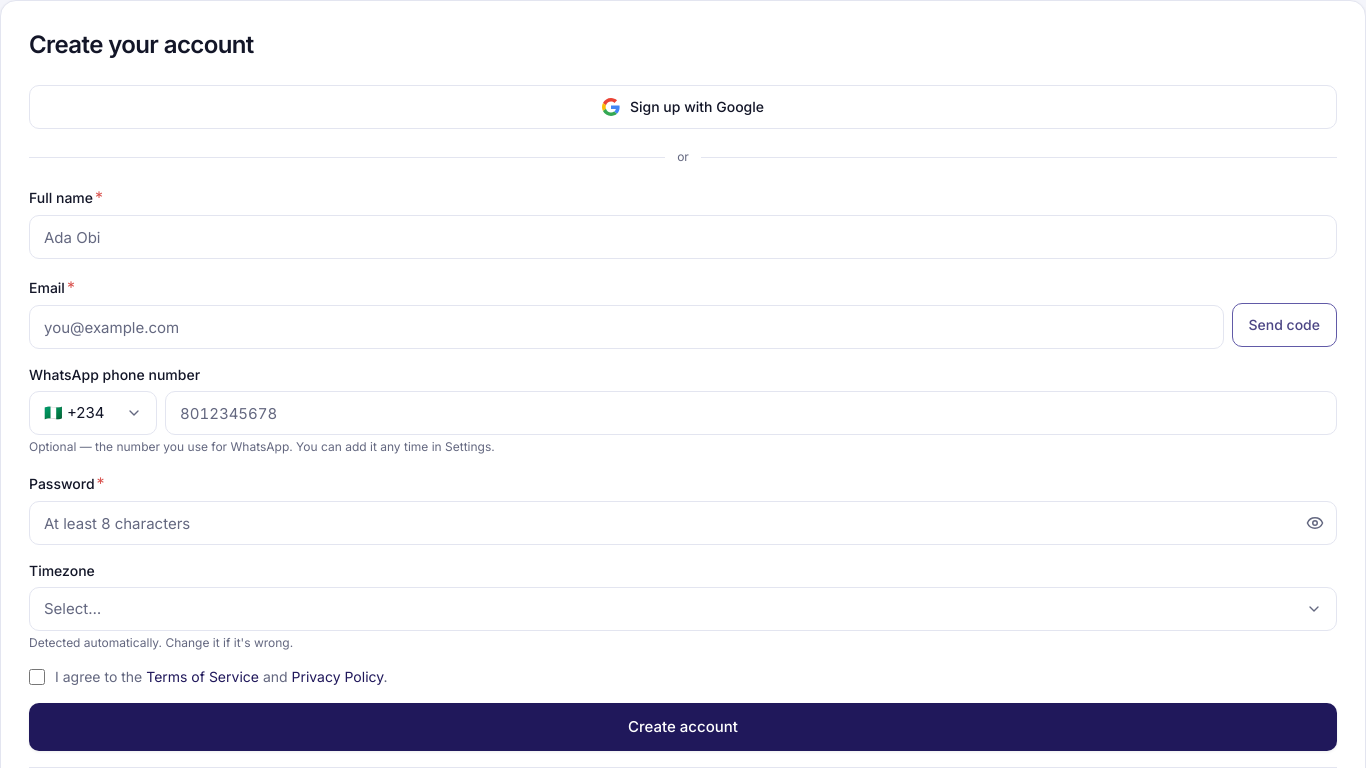
Register › shows field-level errors, requires consent and a verified email
This screenshot has width=1366, height=768.
Click the button "Create account" at (683,727), box [29,703,1337,751]
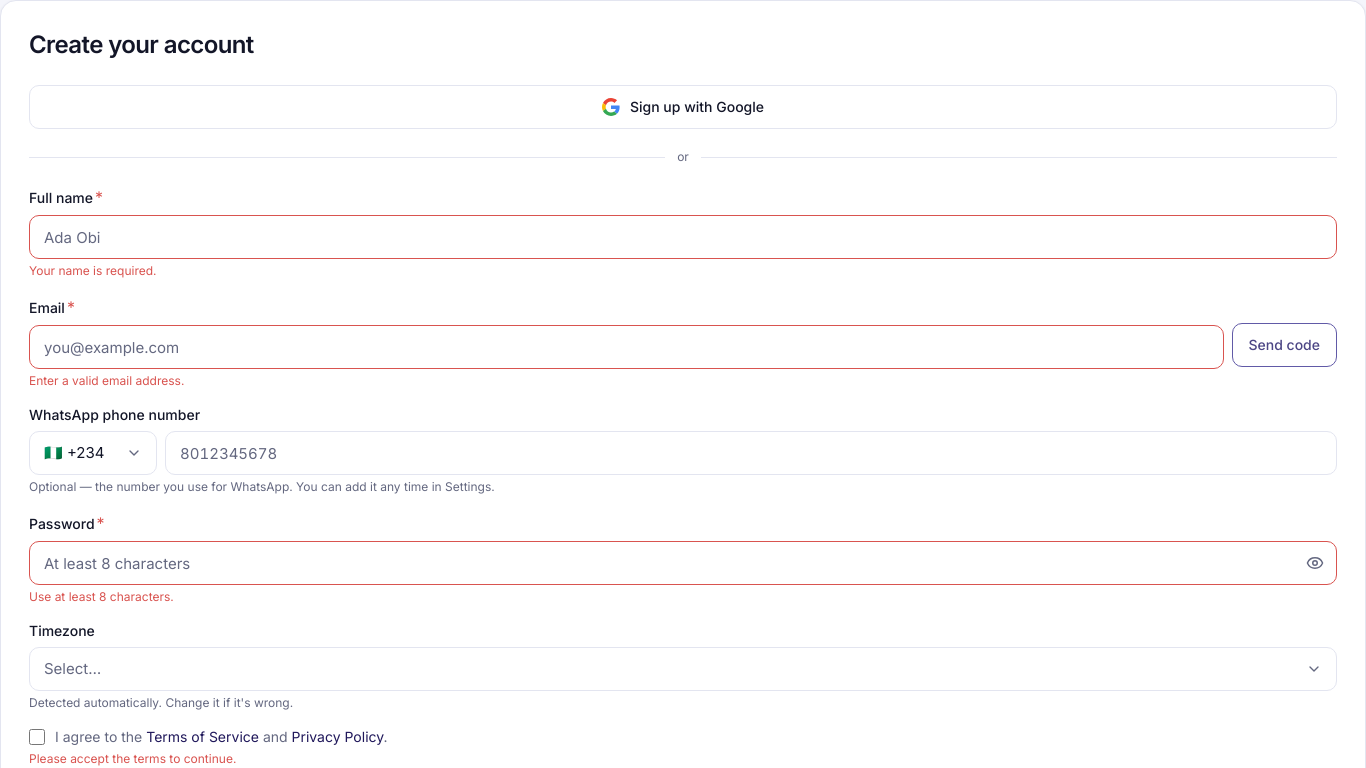
Expected: the text "Your name is required." is shown, [29,263,156,278]
Expected: the text "Enter a valid email address." is shown, [29,373,184,388]
Expected: the text "Please accept the terms to continue." is shown, [29,751,236,766]
